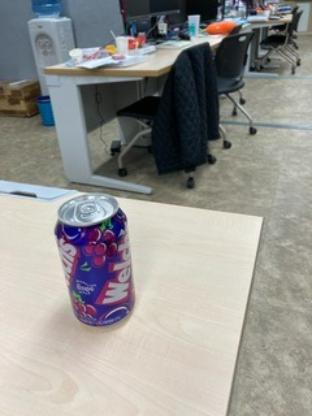Can: (53, 188, 140, 332)
